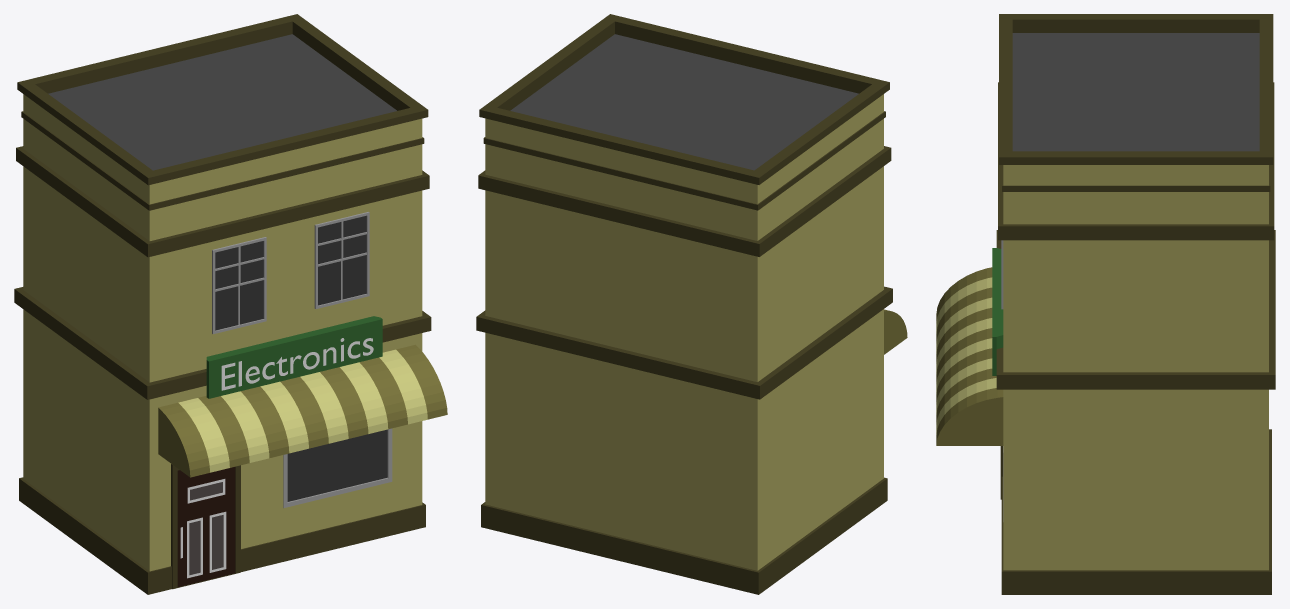
Rendered from Building_Electronics.fbx.
3 views of the same model, side by side, from view 1: azimuth 30°, elevation 25°; view 2: azimuth 150°, elevation 25°; view 3: azimuth 270°, elevation 25° (orthographic). The views are drawn at different scales.
Visible parts, largest first — view 1: Cube, Plane, Text; view 2: Cube; view 3: Cube.
Part boxes in pixels (x1,y1,x2,y2): Cube: [14, 14, 447, 594]; Plane: [171, 464, 240, 589]; Text: [221, 338, 373, 390]; Cube: [476, 14, 907, 594]; Cube: [936, 14, 1275, 594].
Size of the model in its own units: 710 by 999 by 701.
